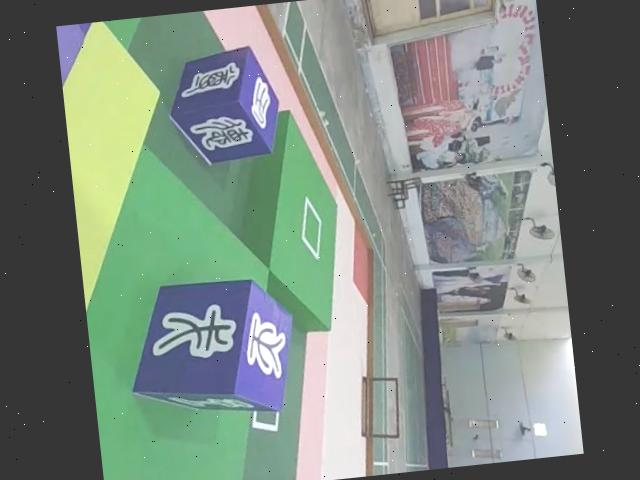R2 Fake Blue: (117, 275, 299, 430), (161, 46, 283, 172)
